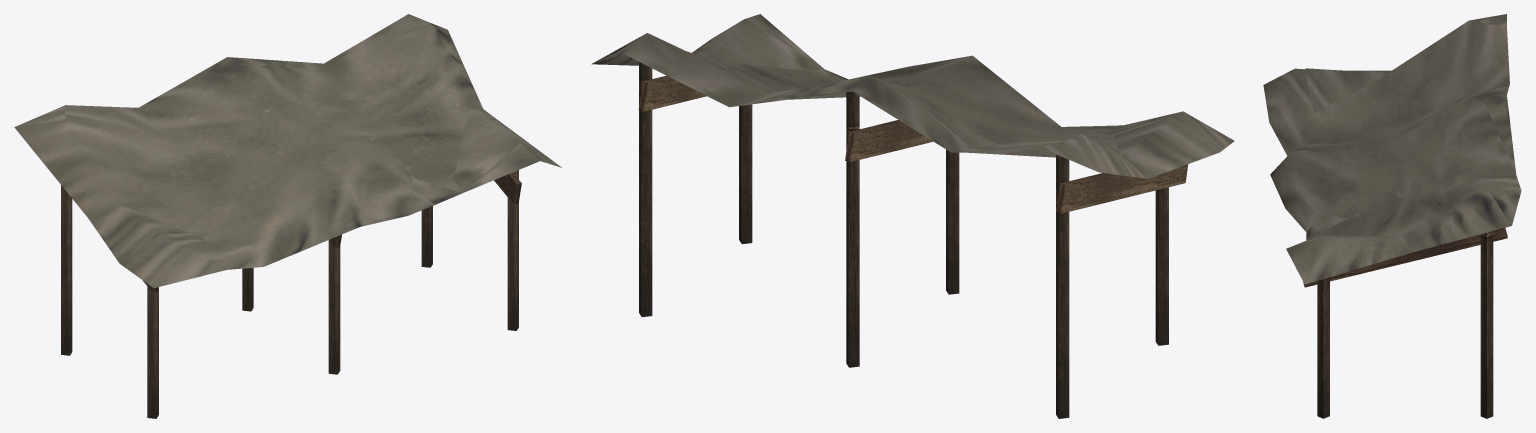
File: SC_yonghengsenlin_37.FBX
The picture shows the model from 3 angles, left to right: view 1: azimuth 30°, elevation 25°; view 2: azimuth 150°, elevation 25°; view 3: azimuth 270°, elevation 25°; orthographic projection. The views are drawn at different scales.
Visible parts, largest first — view 1: SC_yonghengsenlin_37; view 2: SC_yonghengsenlin_37; view 3: SC_yonghengsenlin_37.
Part boxes in pixels (x1,y1,x2,y2): SC_yonghengsenlin_37: (14,14,561,418); SC_yonghengsenlin_37: (591,14,1234,418); SC_yonghengsenlin_37: (1263,14,1521,418).
Bounding box in the file's own units: 682 × 364 × 365.
